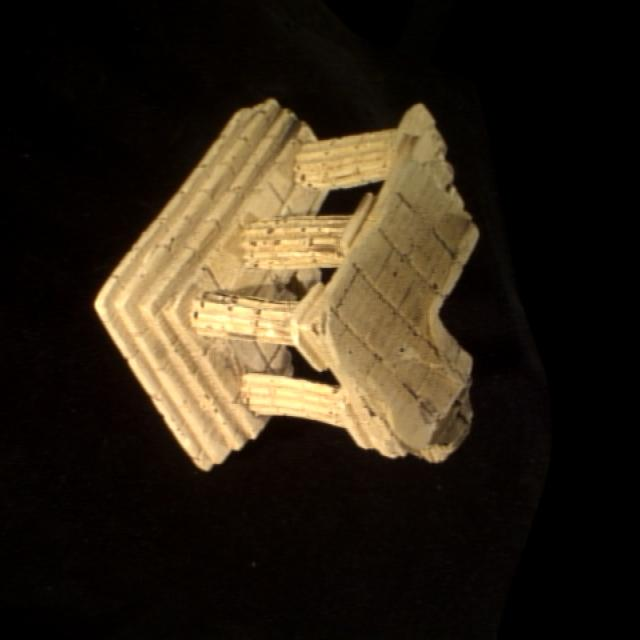Instance-Segmentation: (95, 100, 477, 469)
